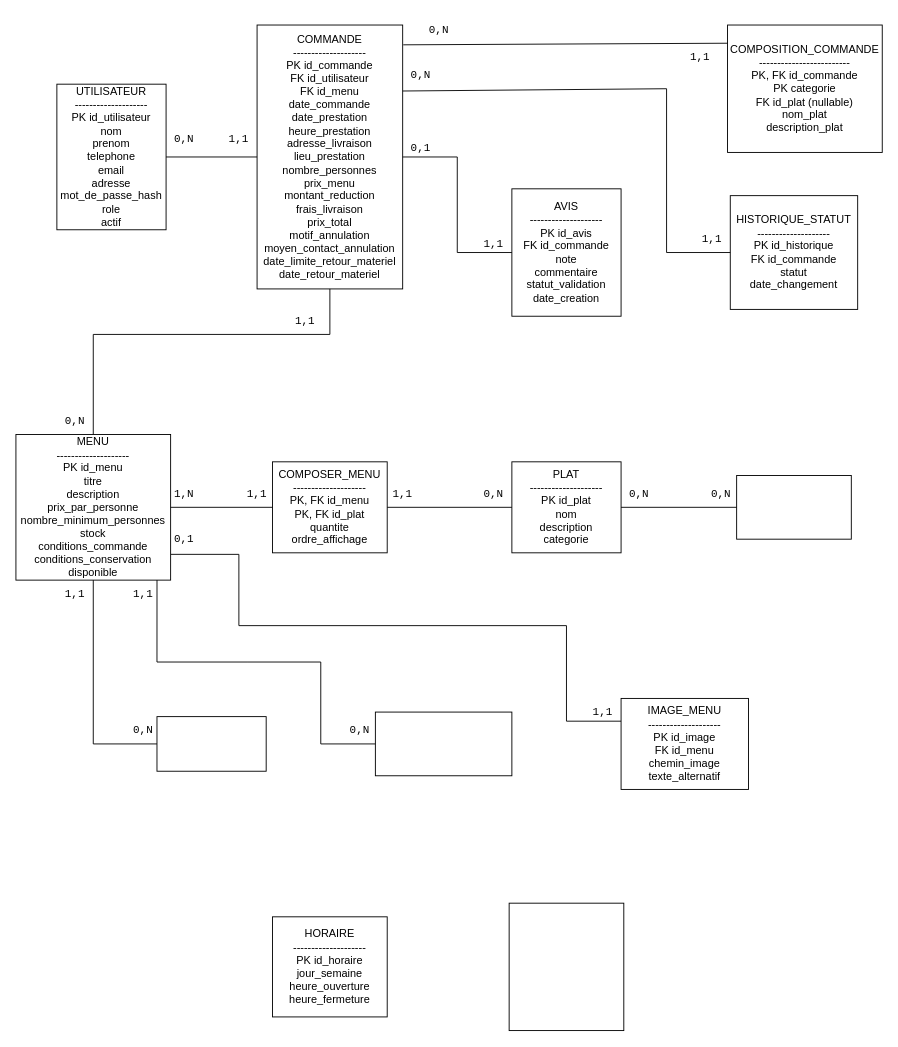
Some shapes in this 898 by 1047 pixel diagram are drawn without their labels. The shapes that lost their labels are listed below. From the top down, each one's centre as x and y in pixels, then its label:
(x=793, y=507): ALLERGENE -------------------- PK id_allergene nom
(x=211, y=743): THEME -------------------- PK id_theme nom
(x=443, y=743): REGIME_ALIMENTAIRE -------------------- PK id_regime nom
(x=566, y=966): CONTACT -------------------- PK id_contact nom email sujet message date_envoi
